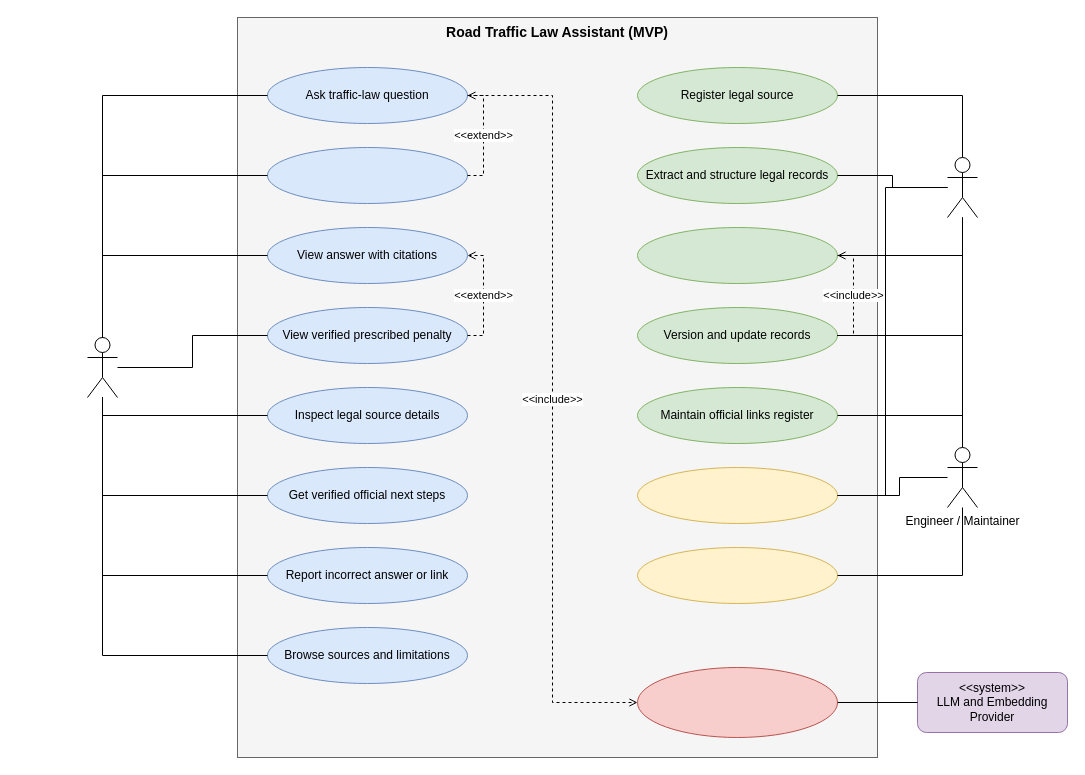
Image size: 1085x775. Some labels were removed from this diagram. Here are the shapes that lost their labels. From the top down, the centre of each, then its label:
the point at 367,175: Answer clarification question
the point at 962,187: Research and Data Team
the point at 737,255: Verify and approve record
the point at 102,367: Road User (driver, learner, educator, public)
the point at 737,495: Review user reports
the point at 737,575: Run evaluation test set
the point at 737,702: Retrieve evidence and generate grounded answer
